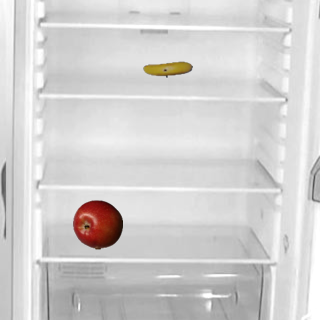Apple Braeburn: (72, 199, 122, 249)
Banana: (142, 44, 192, 94)
